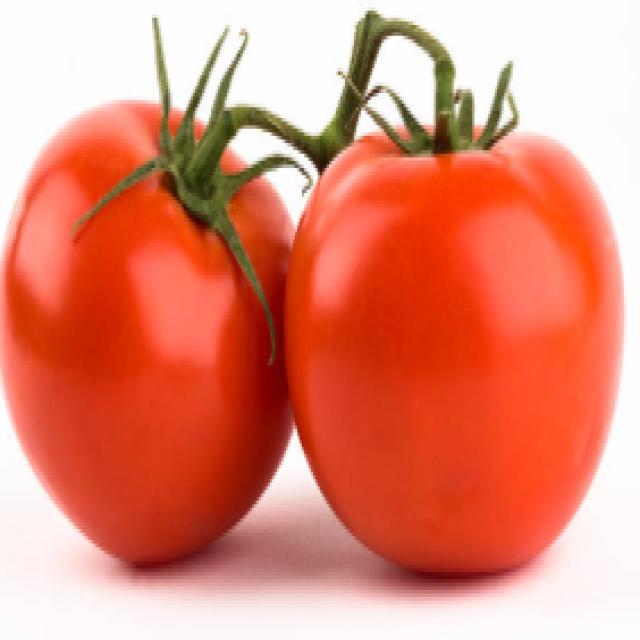Tomato: (303, 68, 621, 590), (9, 85, 311, 596)
